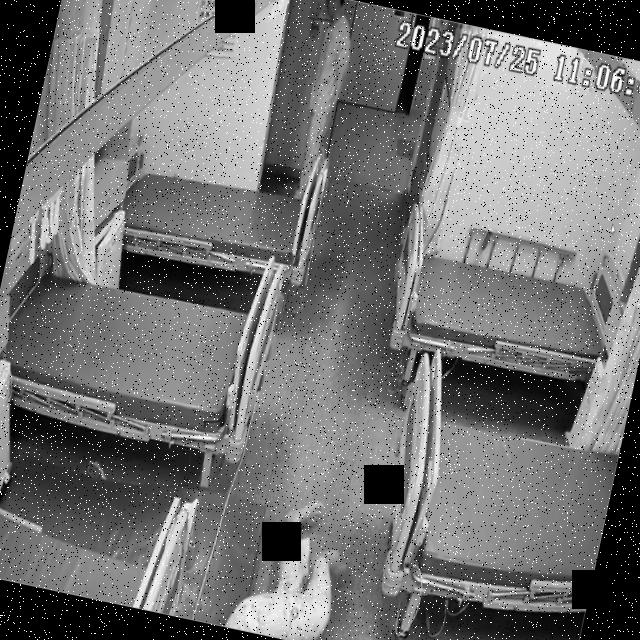bed: (366, 345, 632, 630), (0, 254, 279, 458), (378, 228, 632, 394), (116, 150, 321, 286)
fall: (224, 489, 357, 640)
move: (288, 0, 361, 192)
patient: (222, 486, 360, 640), (289, 0, 362, 191)
